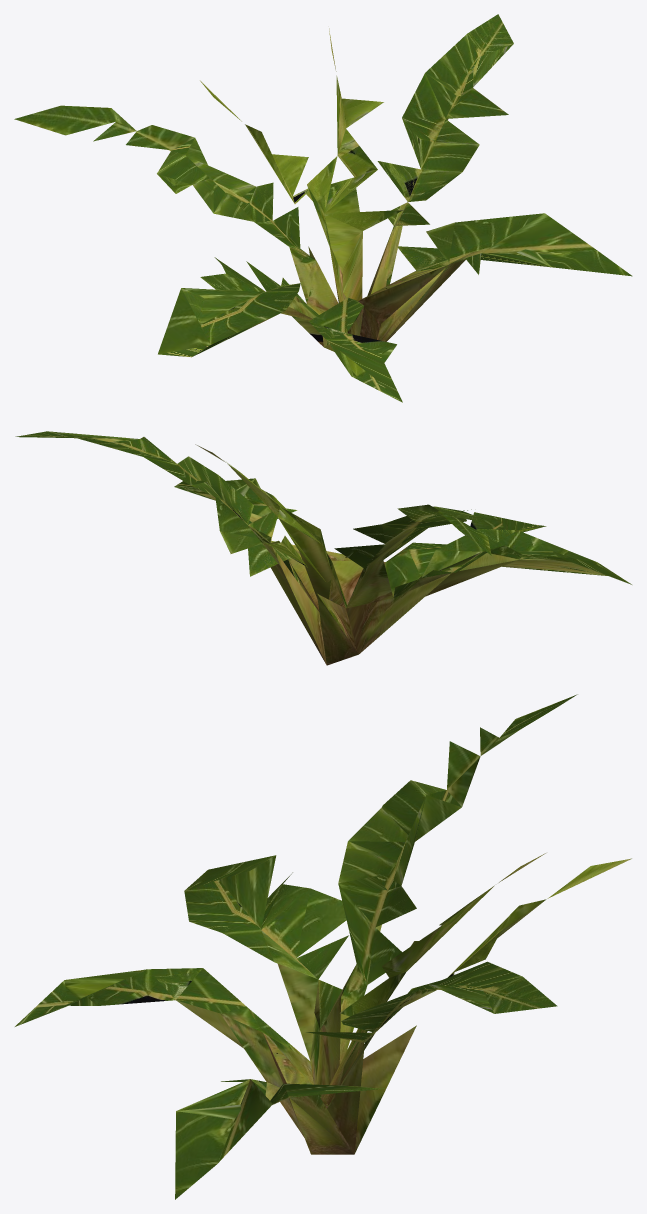
The model's file is fo_shade_fern_lod1.glb.
3 views of the same model, one above another, from view 1: azimuth 30°, elevation 25°; view 2: azimuth 150°, elevation 25°; view 3: azimuth 270°, elevation 25° (orthographic). The views are drawn at different scales.
Visible parts, largest first — view 1: output_unwrapped; view 2: output_unwrapped; view 3: output_unwrapped.
Part boxes in pixels (box(x1,y1,x2,y2)): output_unwrapped: box(14, 14, 632, 402); output_unwrapped: box(15, 431, 631, 665); output_unwrapped: box(15, 694, 631, 1199).
Bounding box in the file's own units: 1.65 × 0.8576 × 1.42.
1 material, 1 textured.
